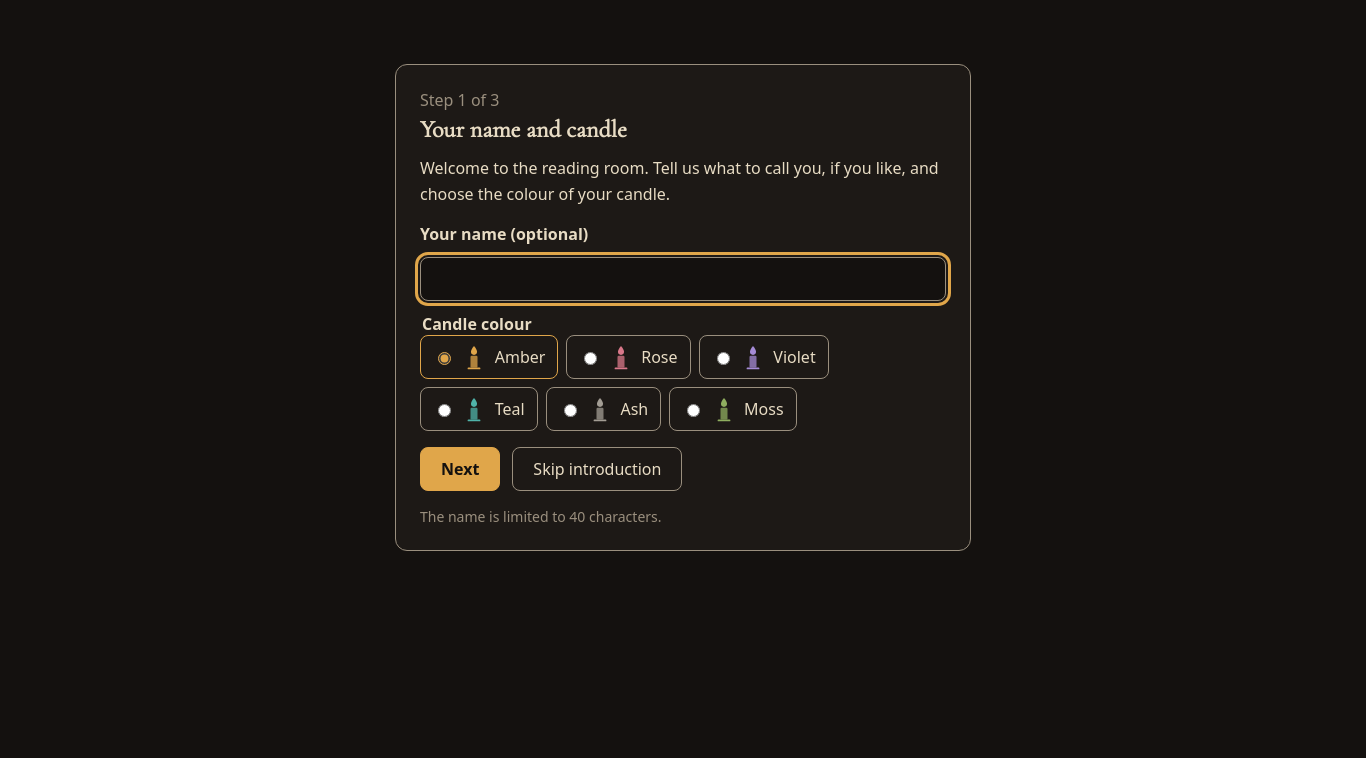
Test case: Onboarding › shows the library and the "will not be saved after the tab closes" message when the final save fails
What coordinates should you click on to do the following:
click the button "Skip introduction"
I would click on:
 (597, 469)
Its box is [512,447,682,491].
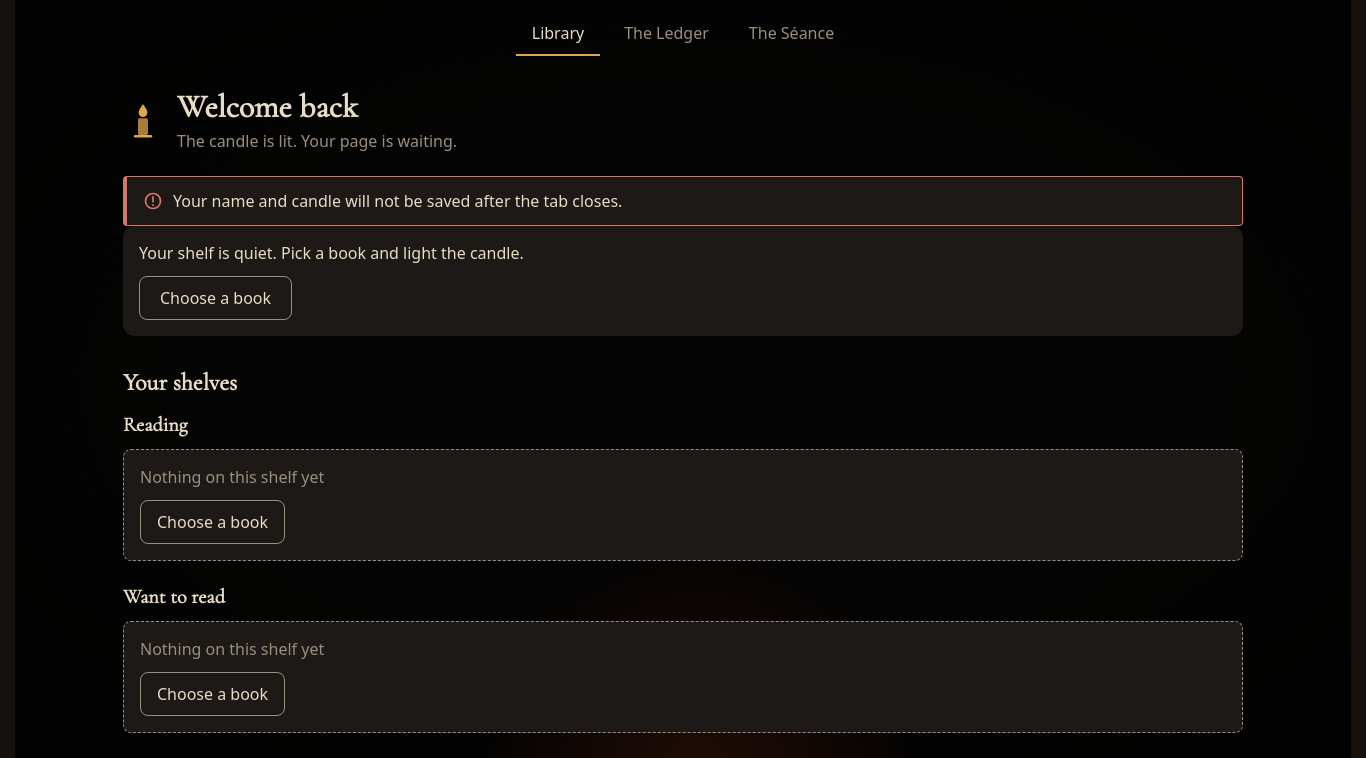
Result: the text "Your shelf is quiet. Pick a book and light the candle." is shown at [139,242,524,264]
Result: the text "Your name and candle will not be saved after the tab closes." is shown at [173,189,622,213]
Result: the button "Skip introduction" is gone
